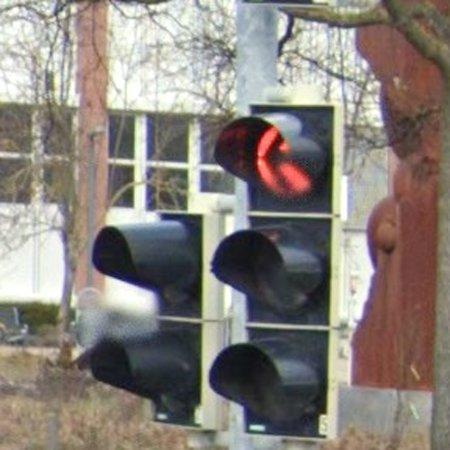traffic lights: (207, 101, 344, 438), (87, 211, 231, 431)
